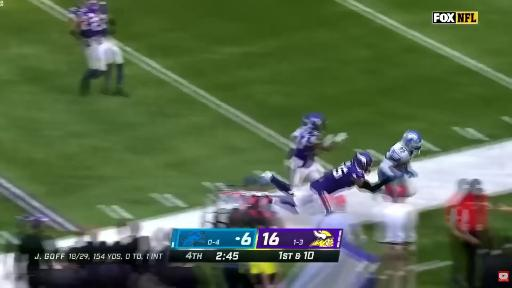Helmet: (402, 130, 422, 152), (352, 152, 372, 174), (303, 113, 326, 130)
Jersey: (311, 162, 365, 194), (68, 7, 107, 46), (379, 142, 414, 178), (292, 126, 321, 167), (386, 142, 413, 167)
Player: (263, 152, 389, 214), (69, 0, 127, 95), (68, 0, 106, 95), (287, 113, 332, 187), (378, 130, 422, 201), (98, 2, 127, 96)
